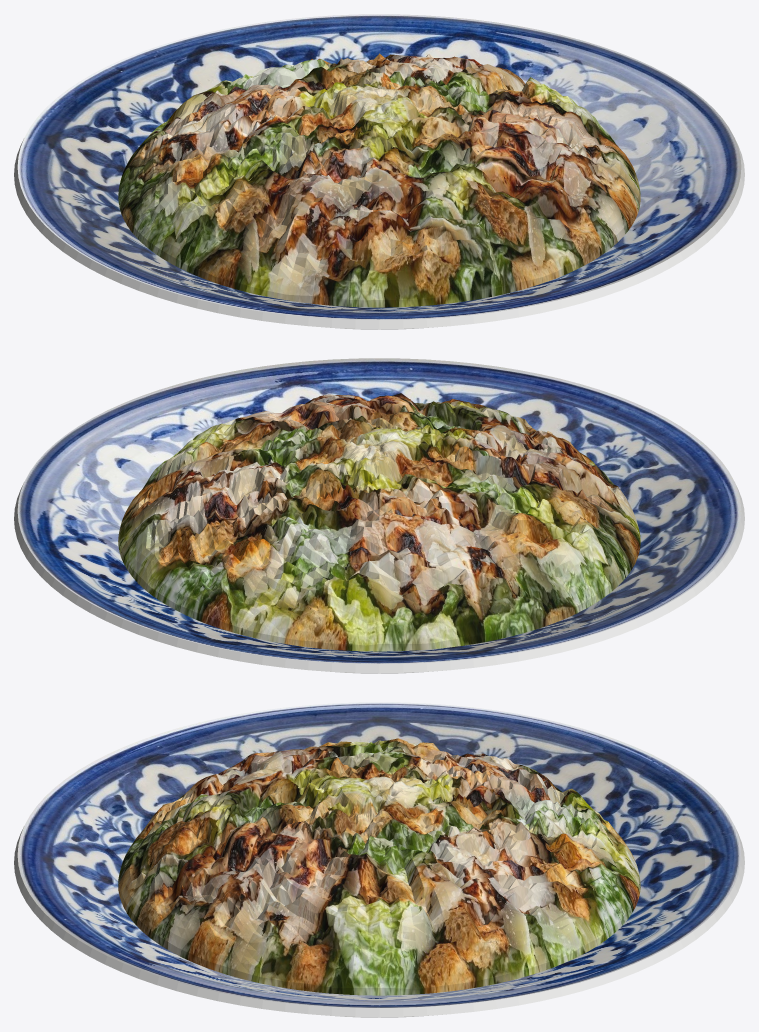
The model's file is sezar.glb.
The picture shows the model from 3 angles, top to bottom: view 1: azimuth 30°, elevation 25°; view 2: azimuth 150°, elevation 25°; view 3: azimuth 270°, elevation 25°; orthographic projection.
Visible parts, largest first — view 1: sezar_2, sezar_0, sezar_1; view 2: sezar_2, sezar_0, sezar_1; view 3: sezar_2, sezar_0, sezar_1.
Part boxes in pixels (box(x1,y1,x2,y2)): sezar_2: box(118, 53, 640, 307); sezar_0: box(17, 14, 741, 319); sezar_1: box(14, 139, 744, 329); sezar_2: box(118, 393, 640, 651); sezar_0: box(17, 358, 741, 663); sezar_1: box(14, 483, 744, 673); sezar_2: box(118, 738, 640, 995); sezar_0: box(17, 702, 741, 1007); sezar_1: box(14, 827, 744, 1017).
Size of the model in its own units: 0.2626 by 0.0501 by 0.2626.
Materials: 3 (2 with a texture image).
